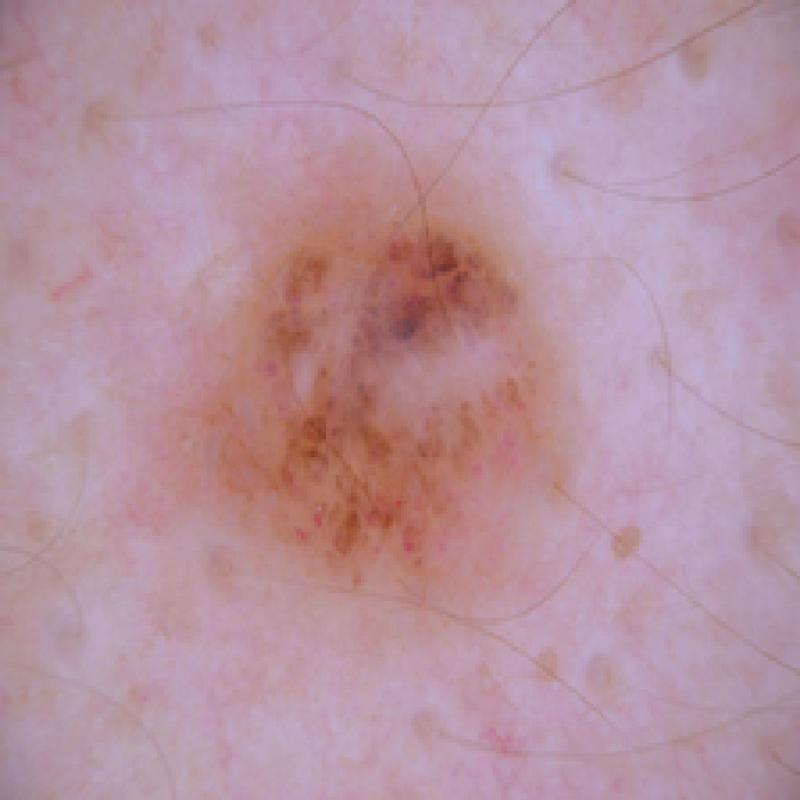benign: (177, 179, 616, 596)
